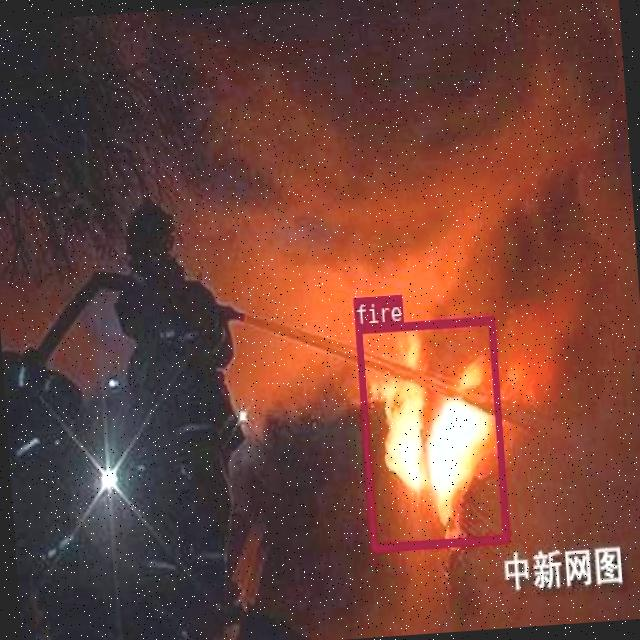fire: (354, 316, 508, 550)
